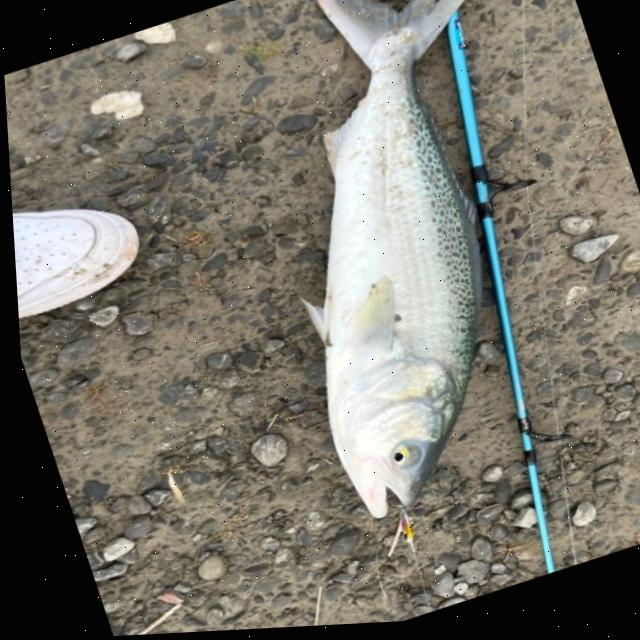Australian Salmon: (178, 0, 640, 543)
